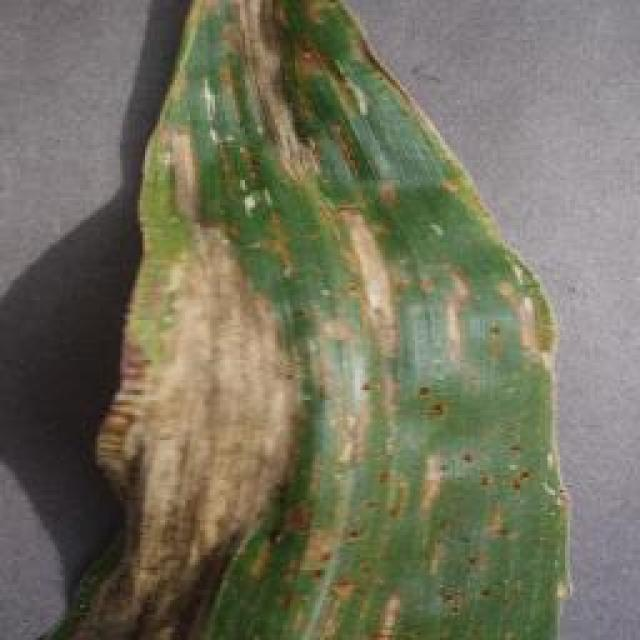Corn___Cercospora_leaf_spot Gray_leaf_spot: (8, 2, 592, 640)
